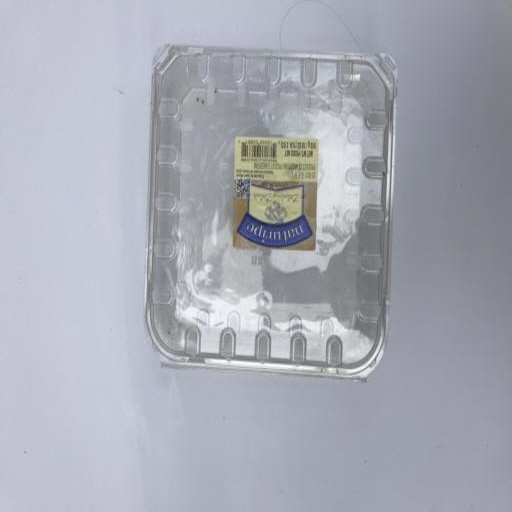Plastic_4: (144, 41, 397, 383)
